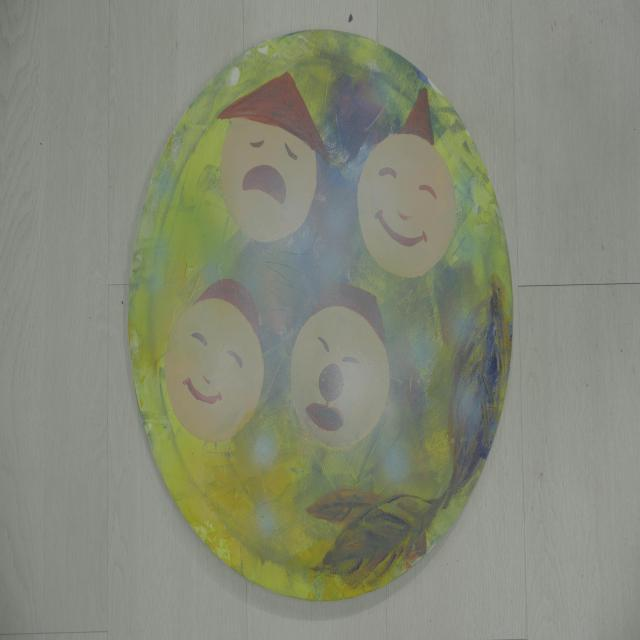painting: (129, 31, 512, 600)
